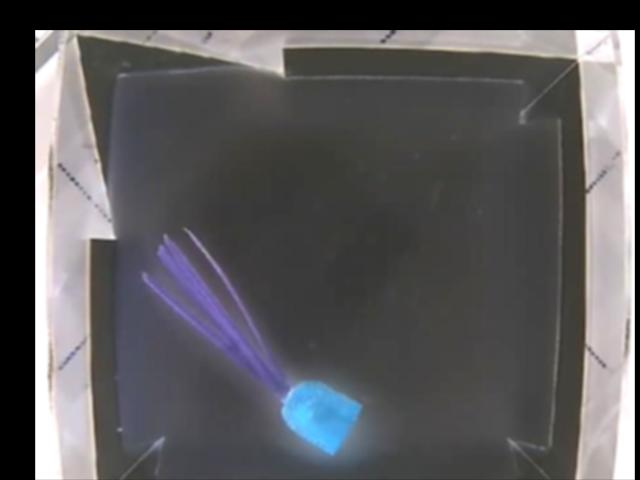Carrot: (244, 356, 362, 454)
